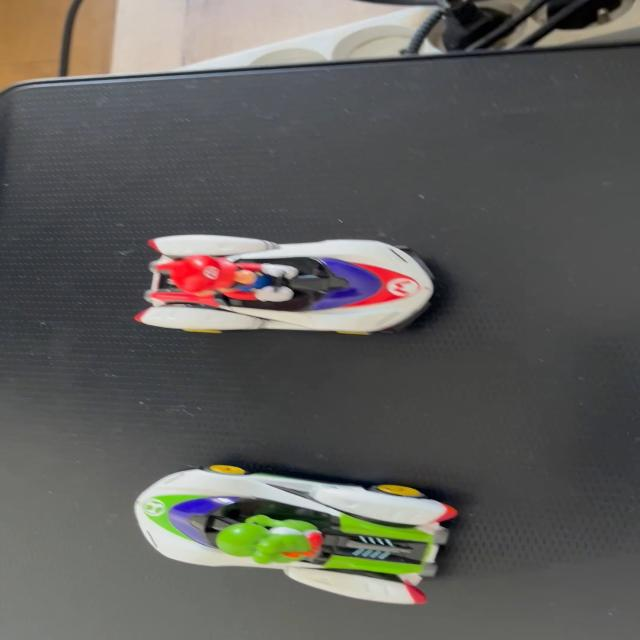mario: (125, 233, 448, 346)
yoshi: (110, 448, 482, 616)
